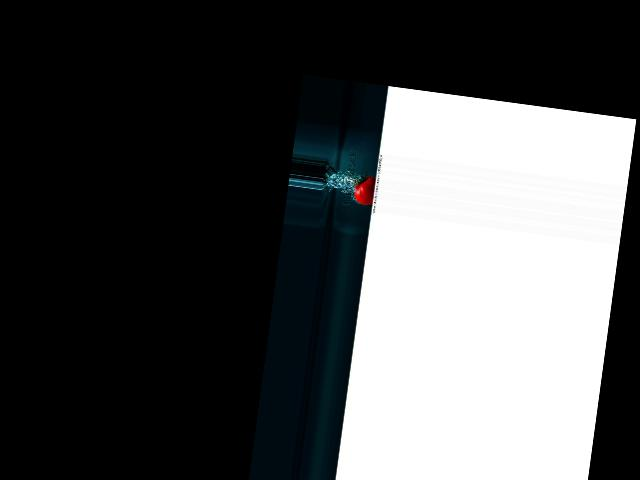tomato: (353, 173, 376, 205)
